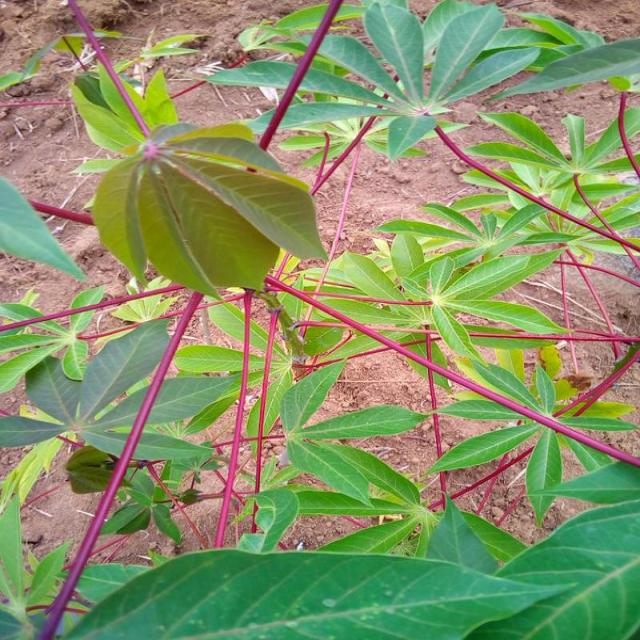cassava leaf: (70, 58, 328, 300)
